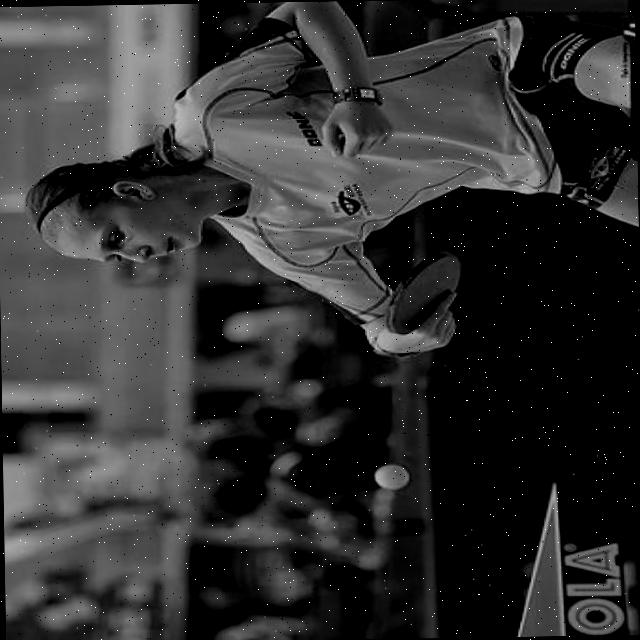ping-pong-ball: (374, 462, 410, 488)
